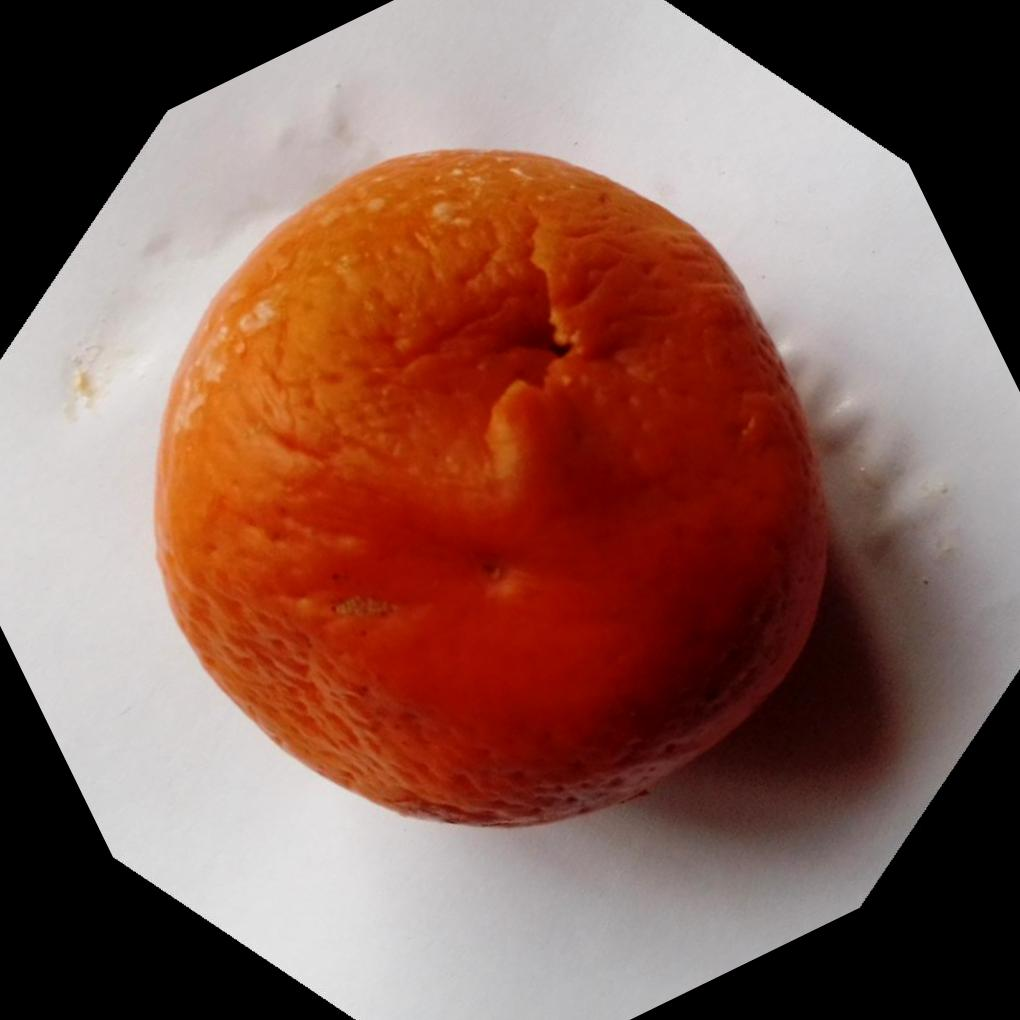FreshOrange: (146, 147, 829, 831)
